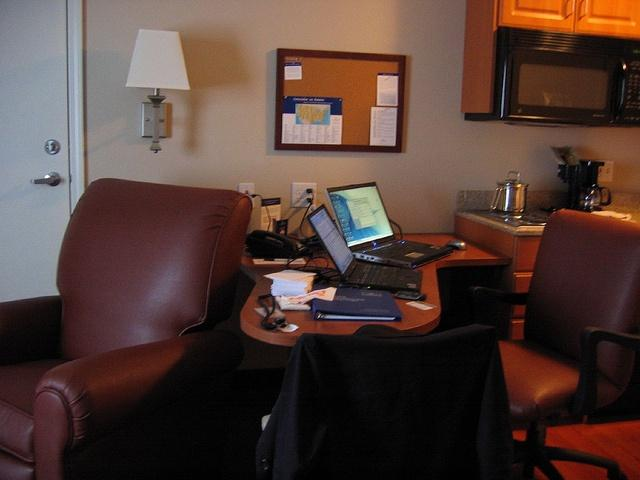Kursi: (468, 206, 639, 479)
